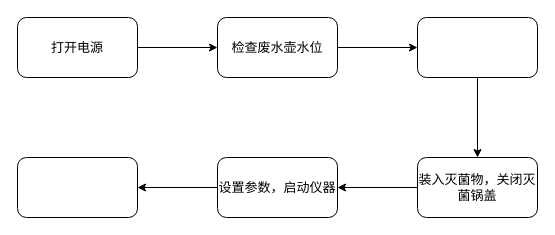
The diagram is 555 pixels wide and 235 high, and some of its shapes have lost their labels. The shapes that lost their labels are listed below. From the top down, each one's box as (x1, y1, x2, y2) in pixels, then its label:
(416, 16, 538, 78): 检查灭菌腔内水位，观察水位指示器
(16, 156, 138, 218): 灭菌完成，取出灭菌物待用
